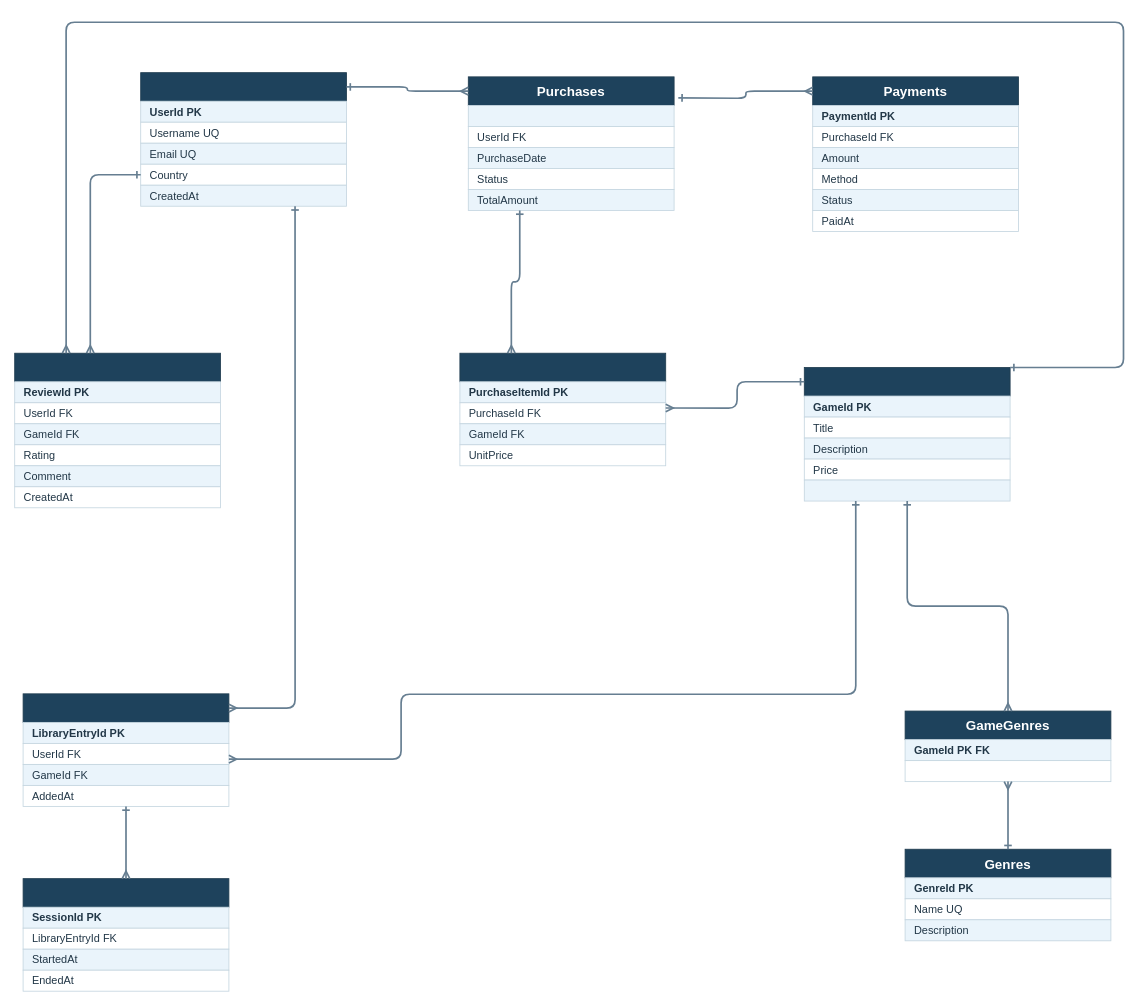
Some shapes in this 1147 by 1005 pixel diagram are drawn without their labels. Here are the shapes that lost their labels. From the top down, the box of each, then its label:
(140, 72, 346, 101): Users
(467, 105, 674, 126): PurchaseId PK
(14, 352, 220, 382): Reviews
(459, 352, 666, 382): PurchaseItems
(803, 367, 1010, 396): Games
(803, 479, 1010, 501): ReleaseDate
(22, 693, 229, 722): LibraryEntries
(904, 760, 1111, 782): GenreId PK FK
(22, 878, 229, 907): GameplaySessions
